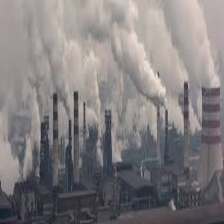smoke: (2, 2, 220, 98)
